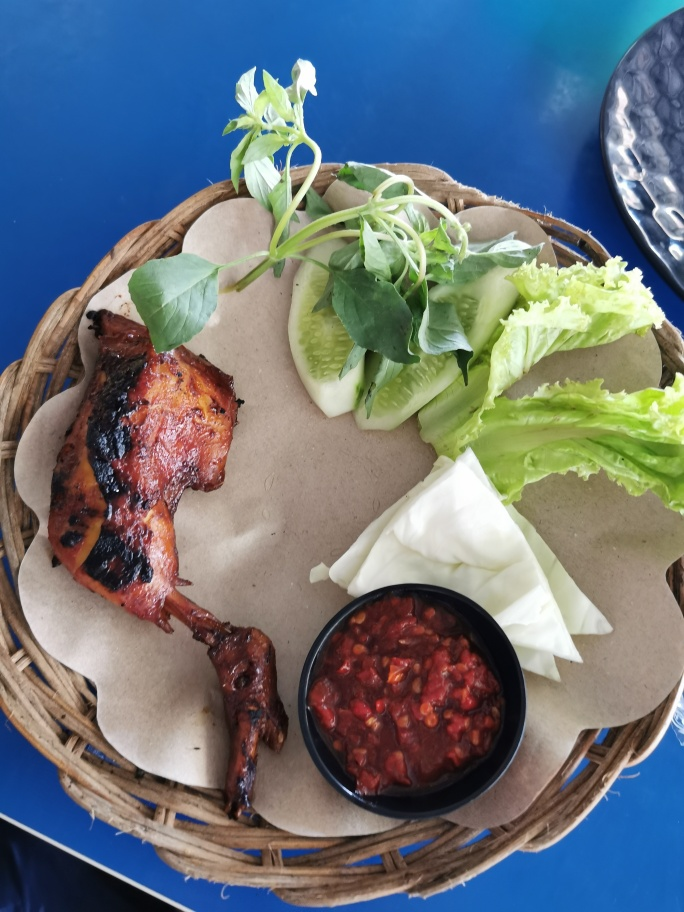ayam bakar: (46, 292, 304, 825)
